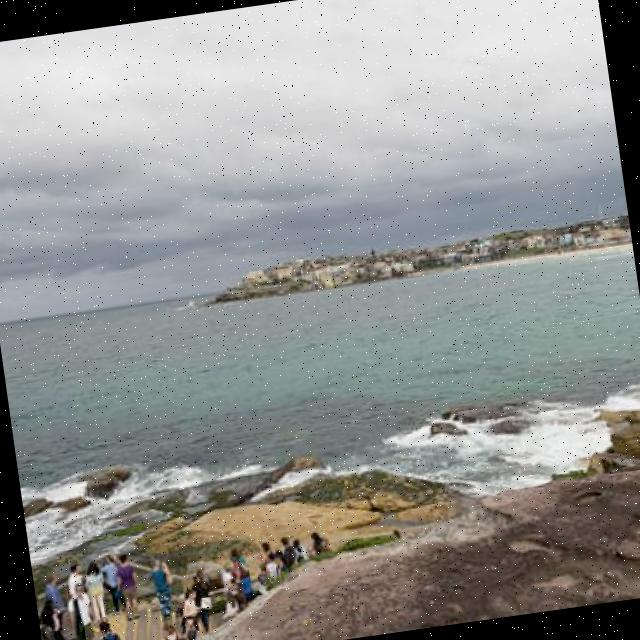Ns: (1, 1, 628, 300)
